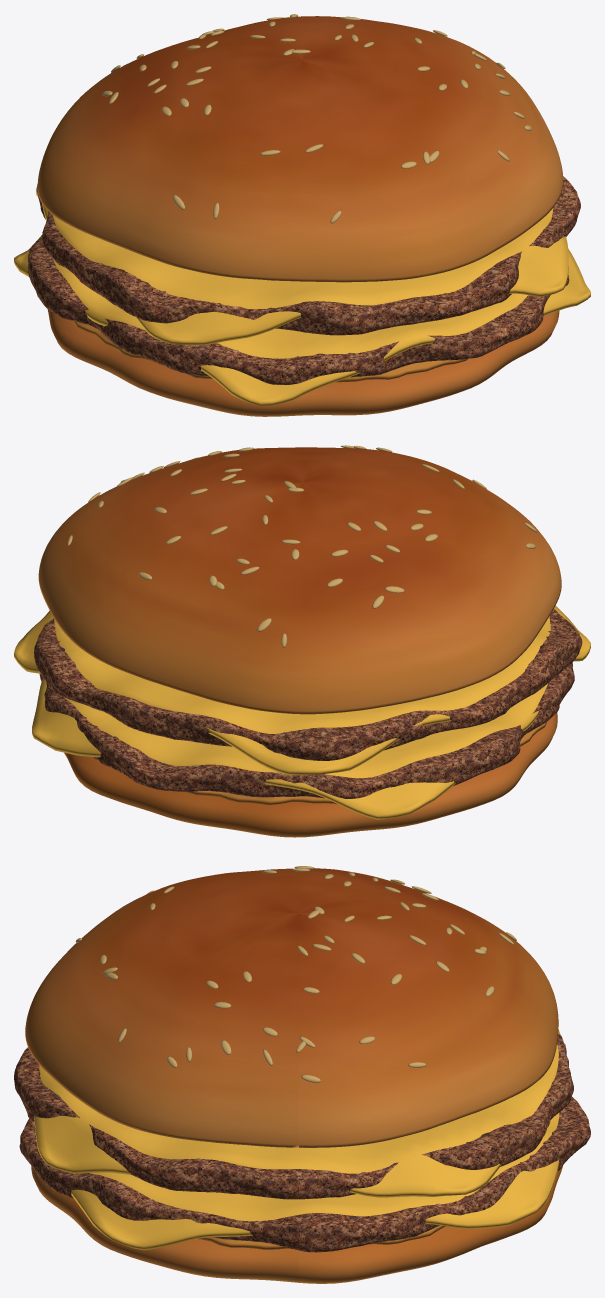
File: premium-burger.glb
3 renders of one model, top to bottom at view 1: azimuth 30°, elevation 25°; view 2: azimuth 150°, elevation 25°; view 3: azimuth 270°, elevation 25°, orthographic. The views are drawn at different scales.
Visible parts, largest first — view 1: Asymmetric toasted brioche crown, Upper cheddar hugging beef, Upper thin smashed beef, Lower thin smashed beef, Brioche heel, Lower cheddar hugging beef, Scattered baked sesame, House sauce thin smear; view 2: Asymmetric toasted brioche crown, Upper thin smashed beef, Upper cheddar hugging beef, Lower thin smashed beef, Lower cheddar hugging beef, Brioche heel, Scattered baked sesame, House sauce thin smear; view 3: Asymmetric toasted brioche crown, Upper cheddar hugging beef, Upper thin smashed beef, Lower thin smashed beef, Lower cheddar hugging beef, Brioche heel, Scattered baked sesame, House sauce thin smear.
Part boxes in pixels (x1,y1,x2,y2): Asymmetric toasted brioche crown: (37, 16, 563, 282); Upper cheddar hugging beef: (36, 184, 568, 345); Upper thin smashed beef: (37, 176, 580, 335); Lower thin smashed beef: (27, 238, 569, 384); Brioche heel: (47, 309, 559, 416); Lower cheddar hugging beef: (14, 234, 590, 406); Scattered baked sesame: (102, 14, 531, 223); House sauce thin smear: (73, 321, 467, 382); Asymmetric toasted brioche crown: (38, 447, 561, 714); Upper thin smashed beef: (34, 609, 582, 760); Upper cheddar hugging beef: (14, 605, 590, 775); Lower thin smashed beef: (39, 663, 574, 798); Lower cheddar hugging beef: (32, 662, 572, 819); Brioche heel: (64, 712, 557, 837); Scattered baked sesame: (67, 445, 536, 647); House sauce thin smear: (186, 722, 546, 804); Asymmetric toasted brioche crown: (25, 868, 558, 1147); Upper cheddar hugging beef: (34, 1029, 565, 1197); Upper thin smashed beef: (14, 1034, 573, 1199); Lower thin smashed beef: (19, 1096, 590, 1252); Lower cheddar hugging beef: (71, 1113, 559, 1250); Brioche heel: (31, 1166, 562, 1283); Scattered baked sesame: (75, 866, 516, 1082); House sauce thin smear: (198, 1225, 445, 1249).
Size of the model in its own units: 3.11 by 1.66 by 3.13.
Materials: 9 (4 with a texture image).
